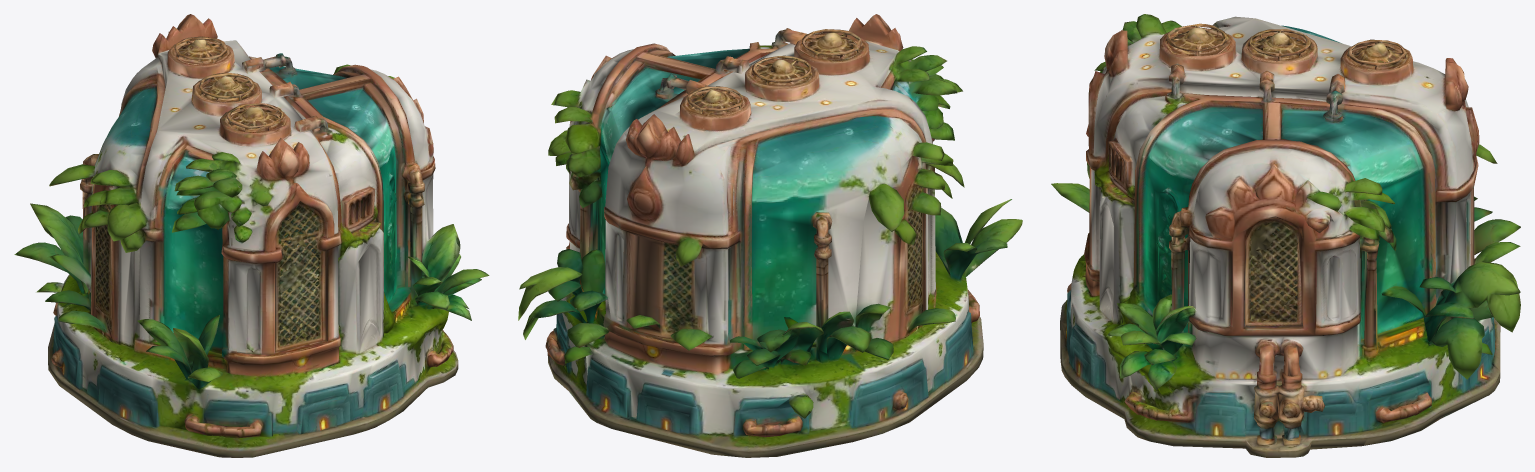
The model's file is bio_filter.glb.
The picture shows the model from 3 angles, left to right: view 1: azimuth 30°, elevation 25°; view 2: azimuth 150°, elevation 25°; view 3: azimuth 270°, elevation 25°; orthographic projection. The views are drawn at different scales.
Parts seen in each view (by area): view 1: node_0; view 2: node_0; view 3: node_0.
Boxes of the visible parts, x1,y1,x2,y2 form: node_0: (14,14,489,457); node_0: (518,14,1022,457); node_0: (1051,14,1520,457).
Size of the model in its own units: 2.67 by 2 by 2.68.
Materials: 1 (1 with a texture image).
